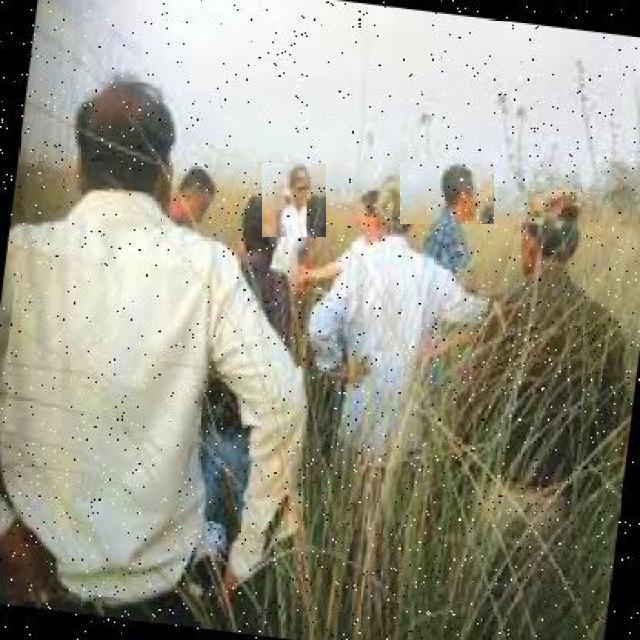Hunter: (4, 79, 300, 498), (438, 188, 637, 516), (308, 175, 454, 440)
